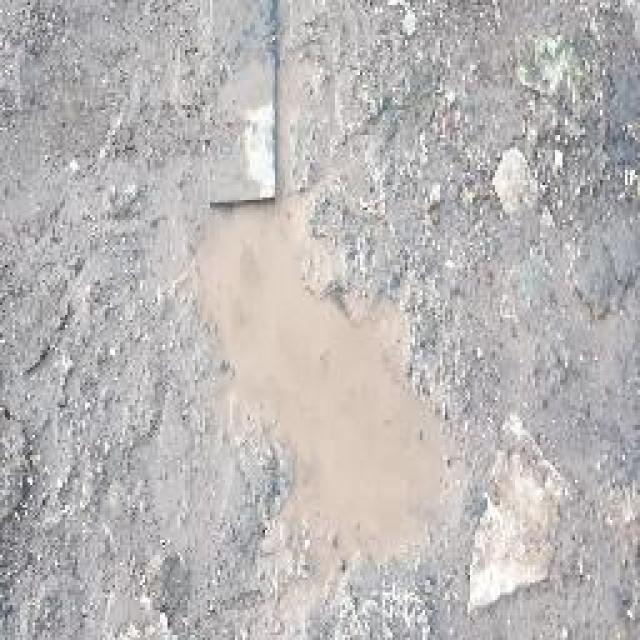stagnation: (189, 126, 495, 584)
